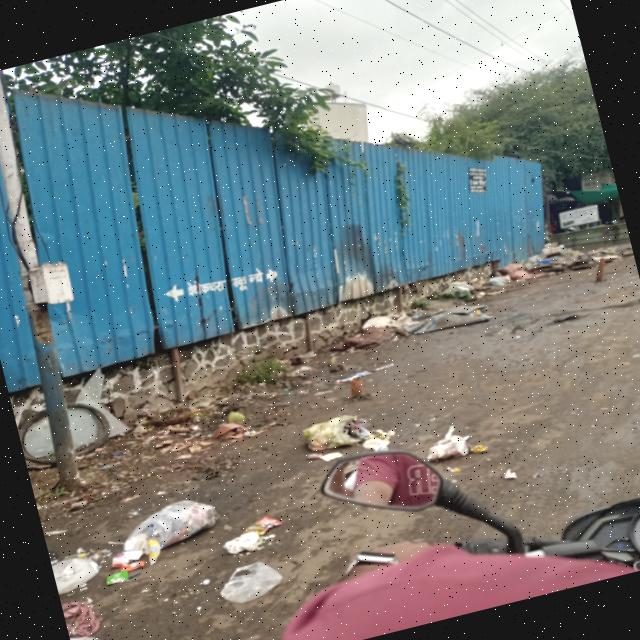garbage: (45, 484, 287, 640), (325, 241, 602, 347), (128, 382, 269, 468)
